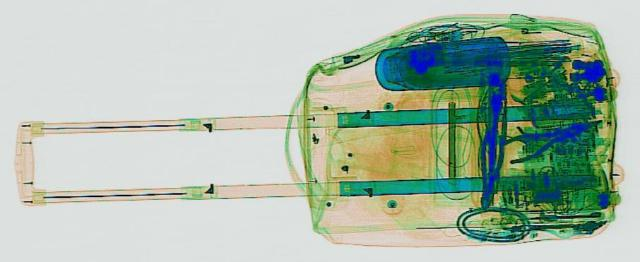Pliers: (476, 111, 620, 163)
